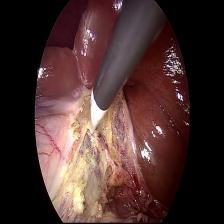Hook: (78, 92, 109, 146)
